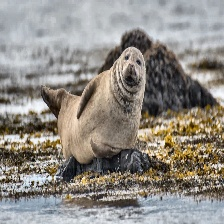seal: (40, 46, 147, 166), (99, 27, 219, 115)
